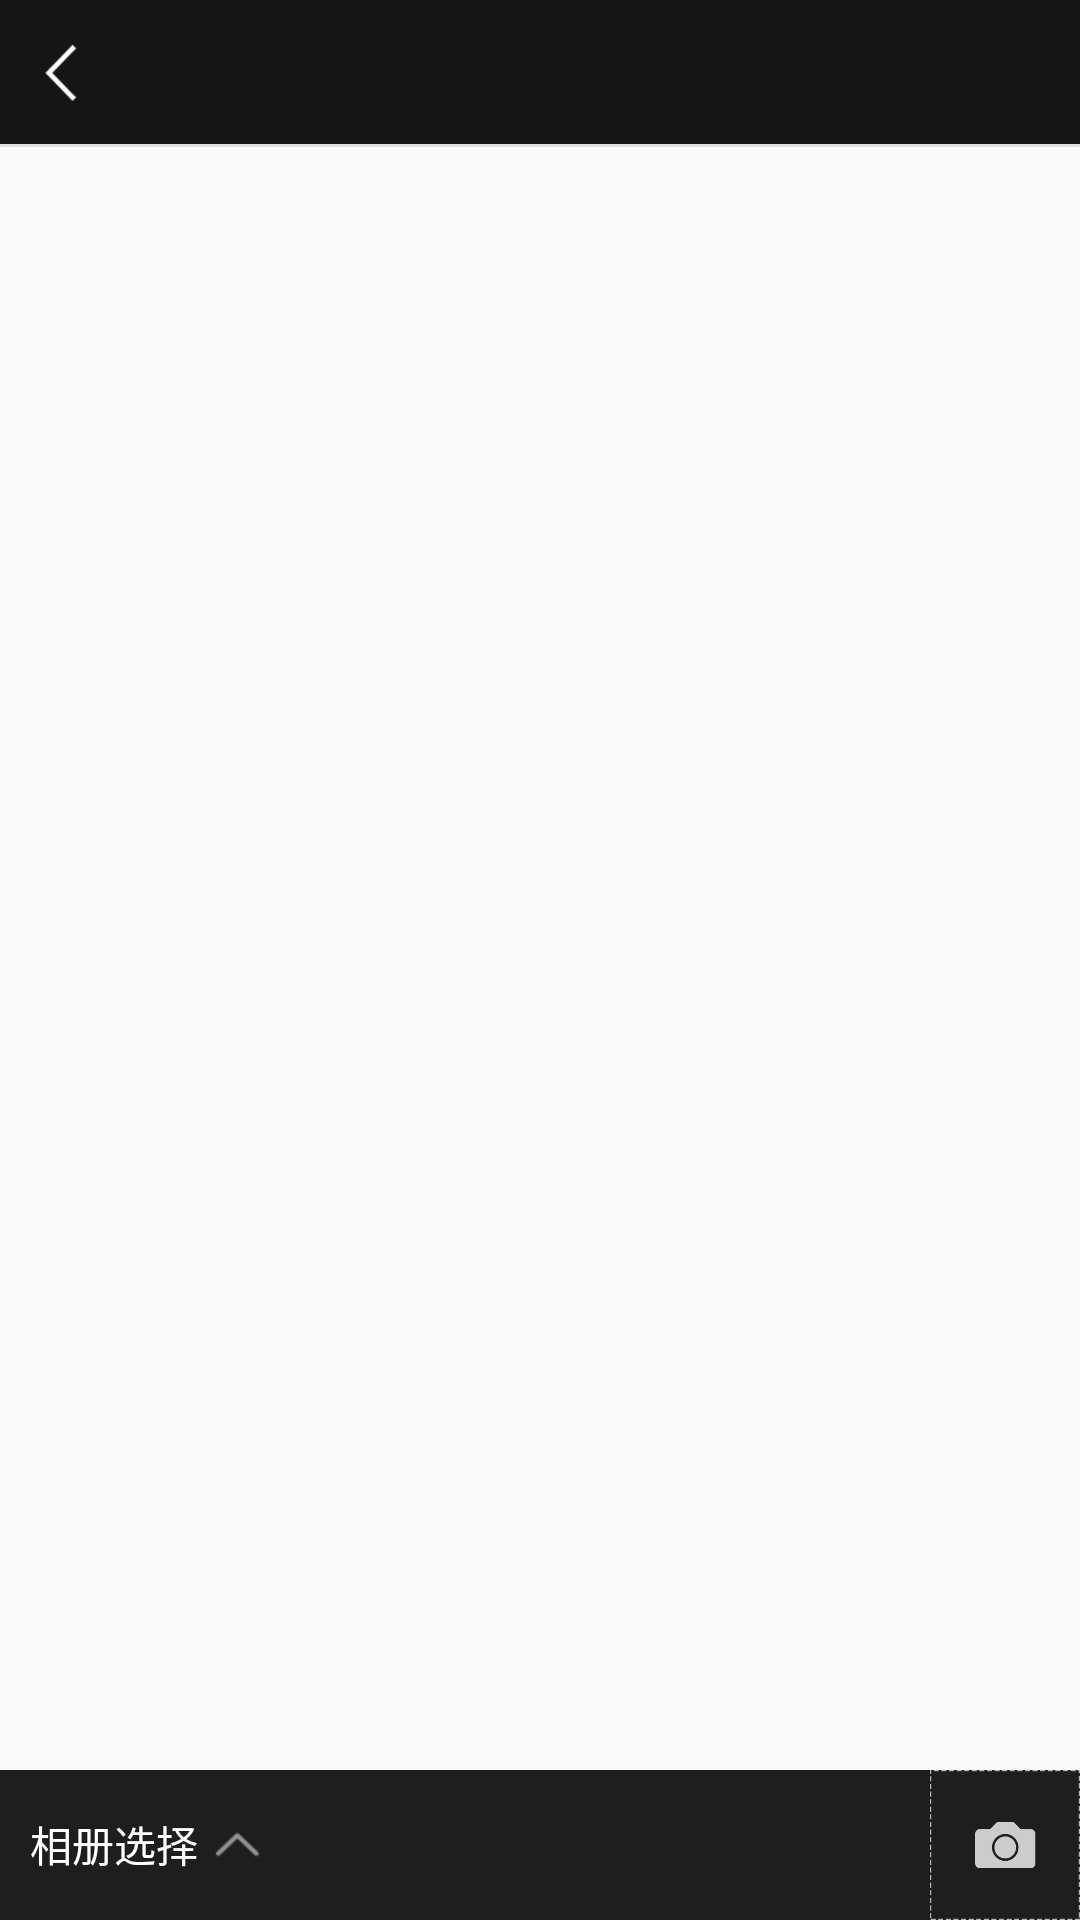

Icons on this 1080*1920 Android screen, each with the point to tap as (x=x, y=y):
imgselect takephotos: (x=1005, y=1845)
topbar left: (x=61, y=73)
